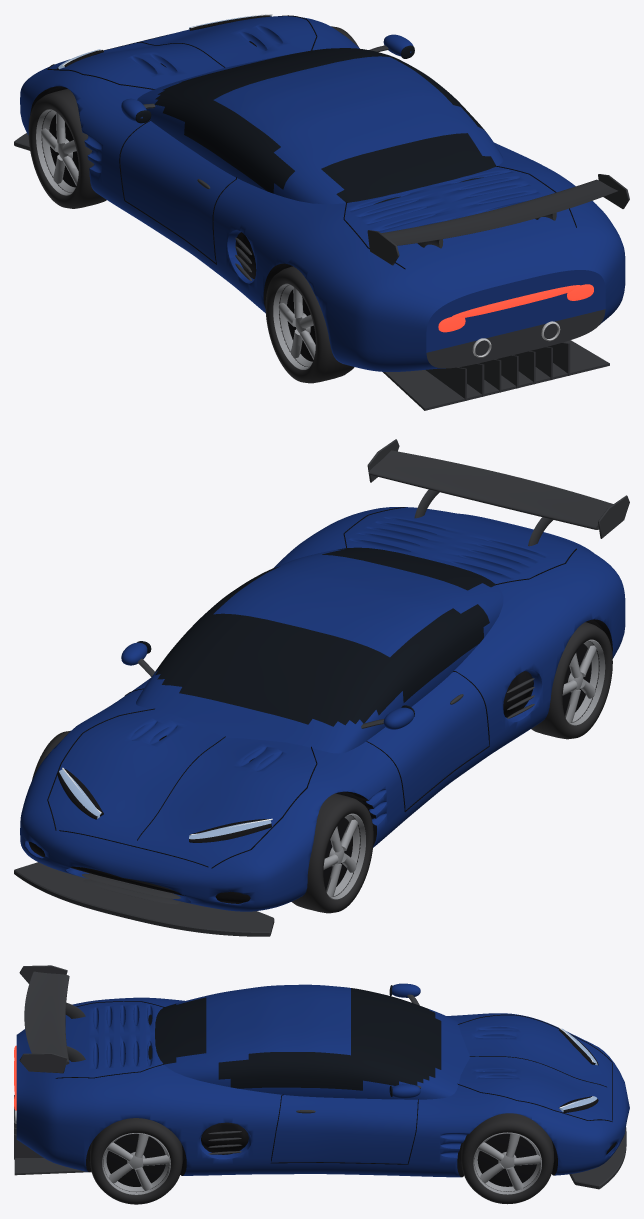
The model's file is Tempest_R.fbx.
3 views of the same model, one above another, from view 1: azimuth 30°, elevation 25°; view 2: azimuth 150°, elevation 25°; view 3: azimuth 270°, elevation 25° (orthographic). The views are drawn at different scales.
Visible parts, largest first — view 1: Body, Wheel_RL, Wheel_FL; view 2: Body, Wheel_FL, Wheel_RL; view 3: Body, Wheel_FR, Wheel_RR.
Boxes of the visible parts, x1,y1,x2,y2 form: Body: (14, 14, 629, 410); Wheel_RL: (265, 266, 354, 383); Wheel_FL: (28, 89, 106, 208); Body: (14, 439, 629, 936); Wheel_FL: (291, 793, 373, 913); Wheel_RL: (531, 622, 612, 739); Body: (14, 965, 629, 1189); Wheel_FR: (461, 1113, 553, 1204); Wheel_RR: (90, 1118, 182, 1204).
Bounding box in the file's own units: 1.96 × 1.16 × 4.58.
